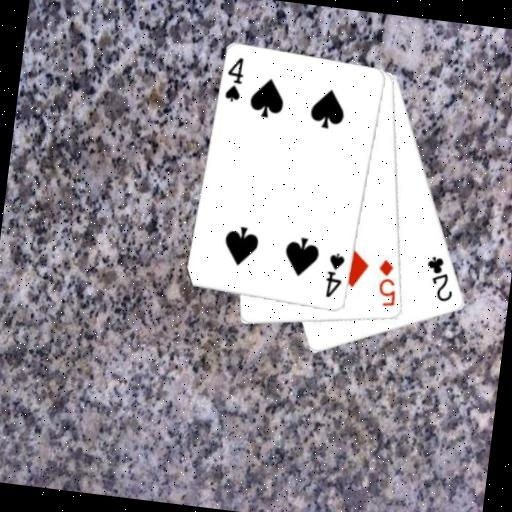2C: (420, 253, 460, 305)
4S: (322, 249, 348, 301), (222, 53, 248, 105)
5D: (372, 256, 403, 309)
